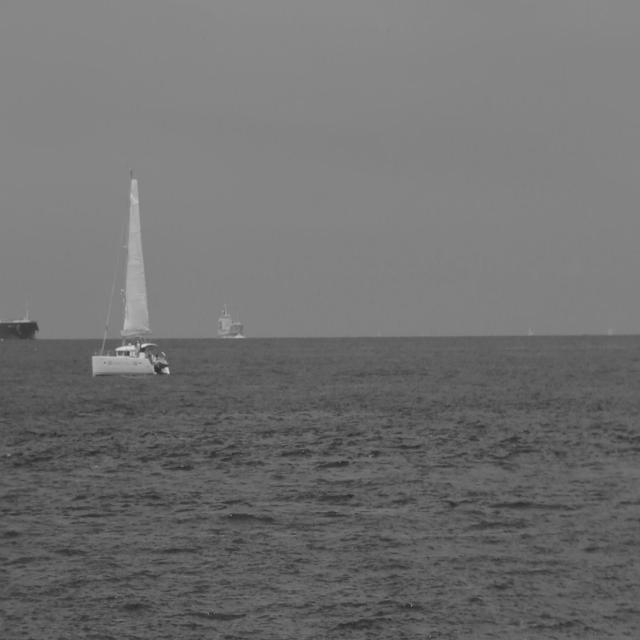ship: (92, 174, 174, 376), (1, 314, 36, 342), (213, 312, 239, 338)
